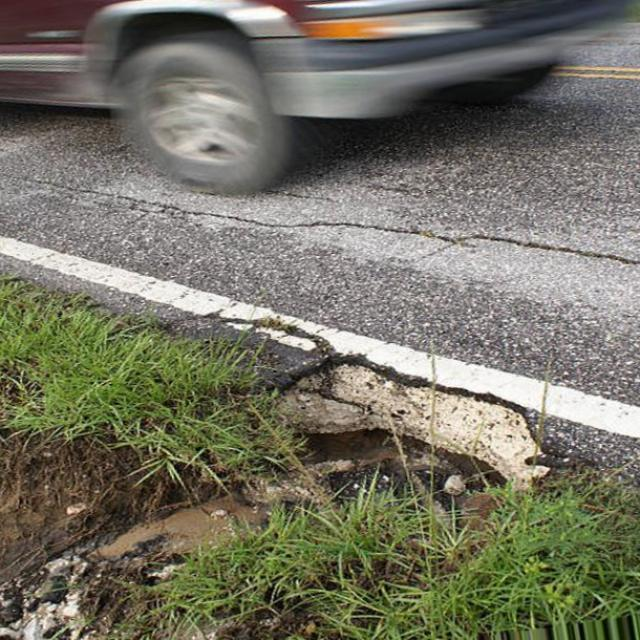Pinggir: (147, 329, 604, 563)
